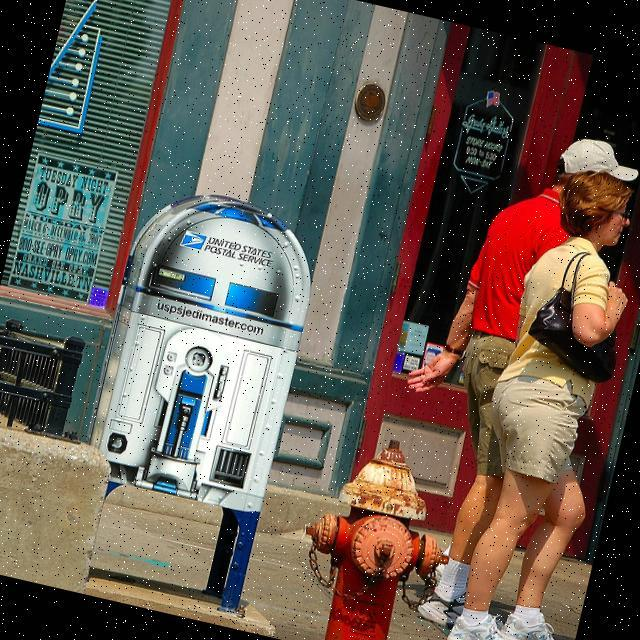fire_hydrant: (304, 430, 470, 640)
